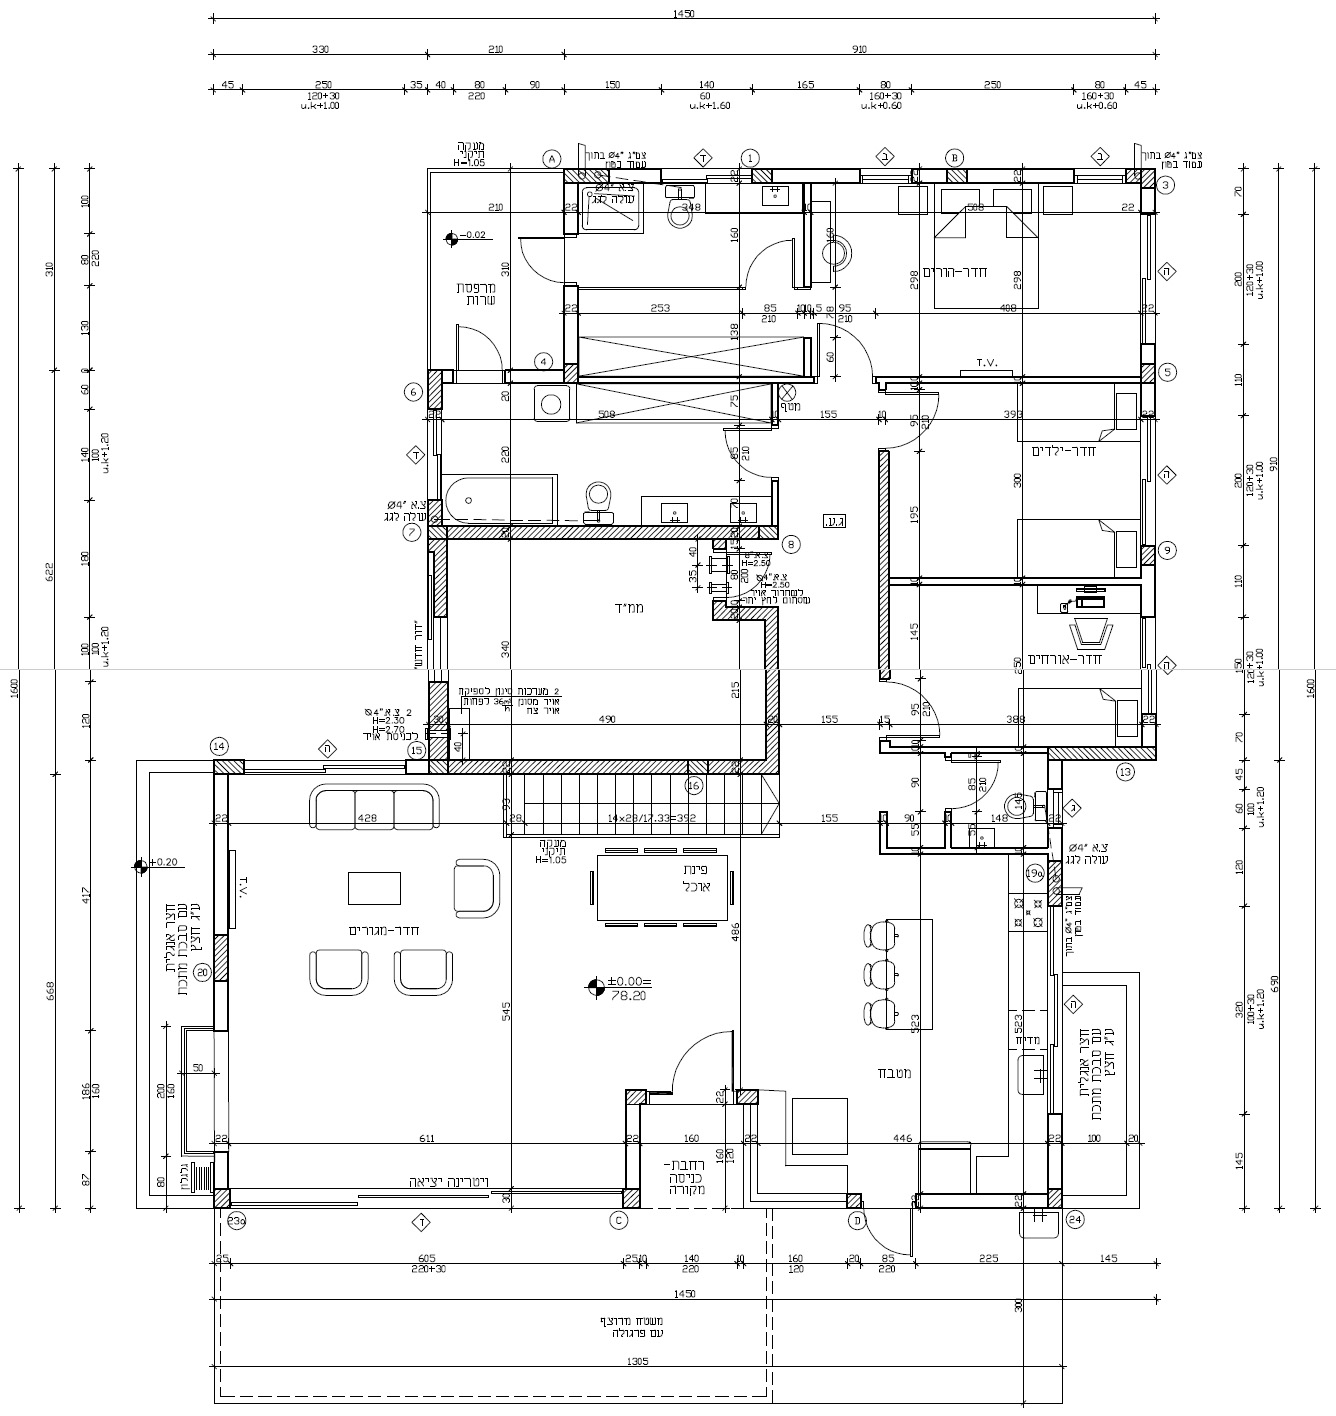door: (667, 1022, 737, 1090), (858, 1210, 927, 1277), (814, 309, 875, 373), (897, 677, 957, 741), (728, 540, 789, 604), (713, 424, 773, 488), (886, 387, 947, 451), (741, 230, 804, 287), (953, 754, 1008, 813), (448, 318, 507, 370), (511, 232, 563, 286)
wall: (428, 759, 778, 773), (426, 526, 777, 539), (765, 606, 778, 775)
window: (229, 1189, 622, 1210), (1046, 906, 1064, 1118), (244, 759, 407, 776), (1138, 417, 1156, 549), (1139, 618, 1156, 749), (1139, 215, 1156, 346), (424, 407, 442, 501), (660, 168, 750, 185)
